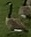goose: (2, 1, 28, 35)
